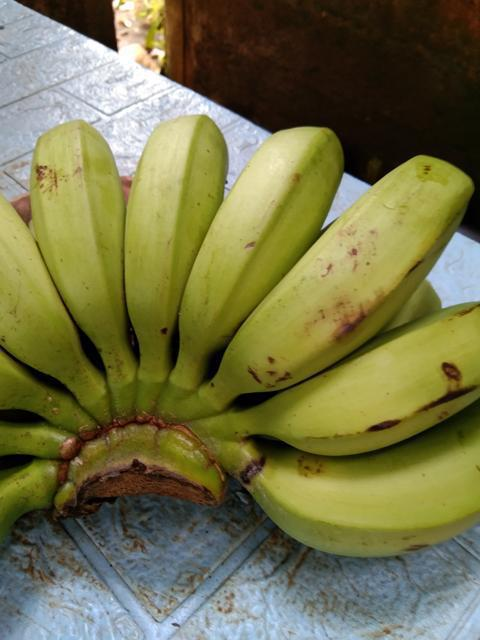freshunripe: (171, 119, 351, 377), (254, 420, 479, 573), (114, 105, 228, 367), (0, 196, 83, 382)
unripe: (218, 135, 478, 399), (252, 292, 479, 453), (27, 108, 144, 373)
